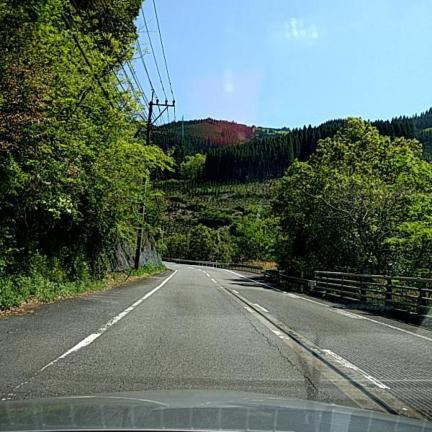Road: (0, 265, 431, 418)
